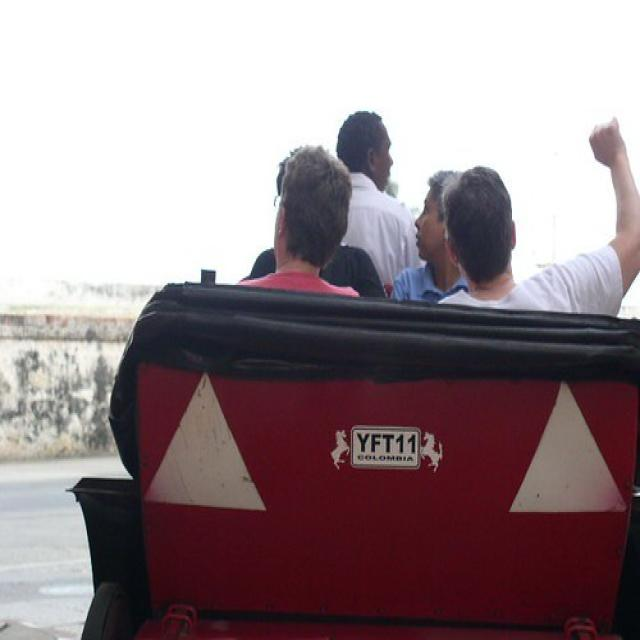placas: (351, 429, 417, 454)
